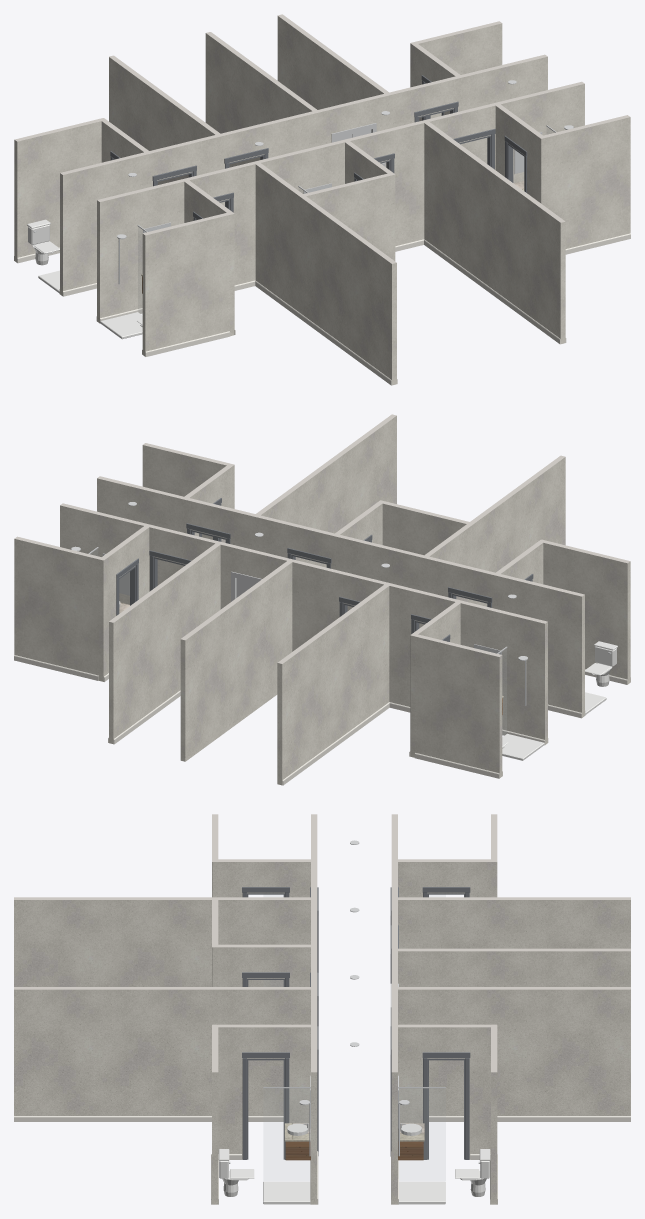
File: plan_floor.glb
The picture shows the model from 3 angles, top to bottom: view 1: azimuth 30°, elevation 25°; view 2: azimuth 150°, elevation 25°; view 3: azimuth 270°, elevation 25°; orthographic projection. The views are drawn at different scales.
Parts seen in each view (by area): view 1: plan_floor_plaster, plan_floor_trim, plan_floor_frame, plan_floor_porcelain, plan_floor_steel, plan_floor_glass; view 2: plan_floor_plaster, plan_floor_frame, plan_floor_trim, plan_floor_porcelain, plan_floor_steel, plan_floor_glass; view 3: plan_floor_plaster, plan_floor_glass, plan_floor_frame, plan_floor_porcelain, plan_floor_trim, plan_floor_wood, plan_floor_steel, plan_floor_stone_f.
Boxes of the visible parts, x1=… form: plan_floor_plaster: x1=14, y1=14, x2=630, y2=385; plan_floor_trim: x1=14, y1=233, x2=630, y2=385; plan_floor_frame: x1=110, y1=75, x2=527, y2=220; plan_floor_porcelain: x1=27, y1=219, x2=142, y2=339; plan_floor_steel: x1=33, y1=80, x2=573, y2=284; plan_floor_glass: x1=138, y1=128, x2=553, y2=313; plan_floor_plaster: x1=14, y1=414, x2=630, y2=785; plan_floor_frame: x1=116, y1=498, x2=533, y2=641; plan_floor_trim: x1=14, y1=655, x2=630, y2=785; plan_floor_porcelain: x1=119, y1=601, x2=617, y2=760; plan_floor_steel: x1=71, y1=502, x2=611, y2=705; plan_floor_glass: x1=92, y1=549, x2=506, y2=734; plan_floor_plaster: x1=14, y1=814, x2=630, y2=1204; plan_floor_glass: x1=264, y1=895, x2=445, y2=1180; plan_floor_frame: x1=242, y1=887, x2=470, y2=1159; plan_floor_porcelain: x1=218, y1=1123, x2=490, y2=1204; plan_floor_trim: x1=14, y1=1116, x2=630, y2=1204; plan_floor_wood: x1=285, y1=1141, x2=423, y2=1160; plan_floor_steel: x1=229, y1=840, x2=480, y2=1163; plan_floor_stone_f: x1=284, y1=1123, x2=424, y2=1141.
Bounding box in the file's own units: 11.5 × 2.75 × 11.63.
10 materials, 3 textured.
